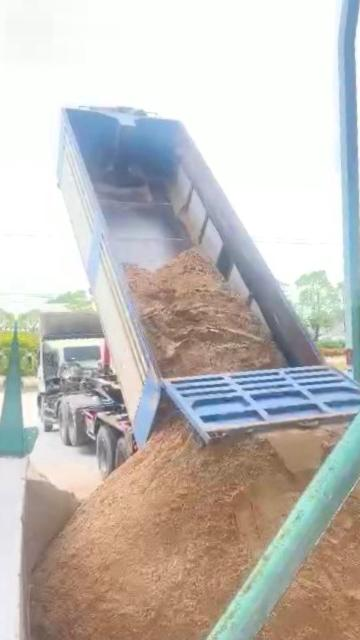sand: (33, 403, 308, 640), (222, 497, 360, 640), (126, 252, 283, 374), (25, 469, 78, 569), (270, 425, 347, 480), (355, 448, 360, 509)
